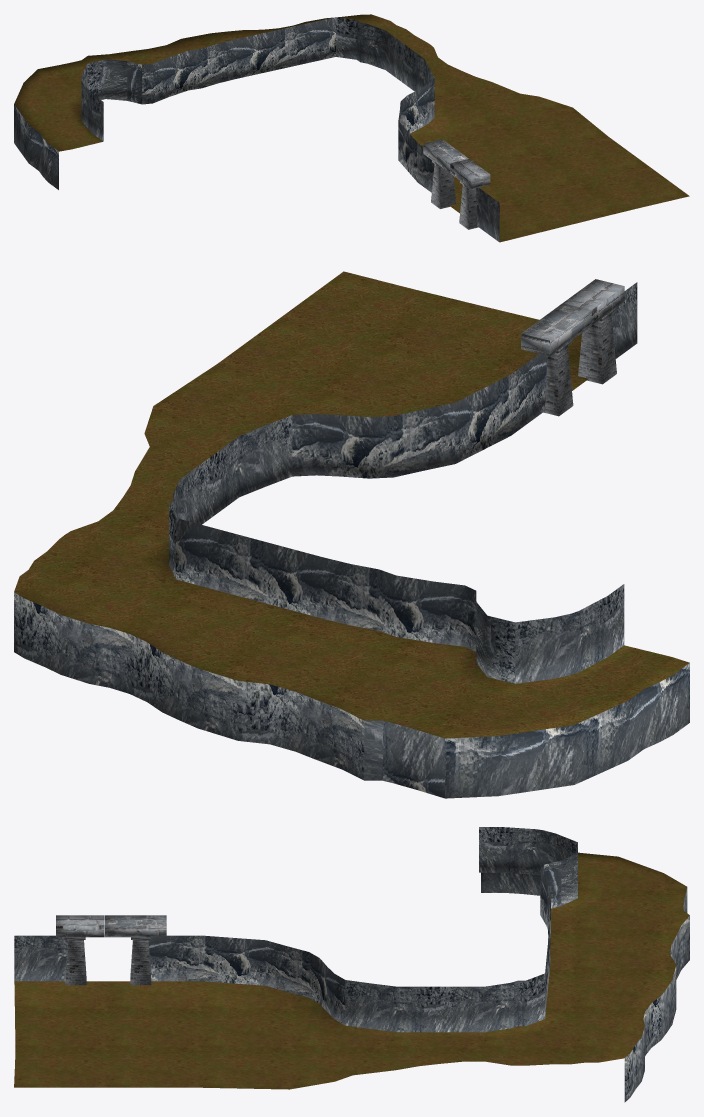
File: arch_ruins.glb
3 views of the same model, one above another, from view 1: azimuth 30°, elevation 25°; view 2: azimuth 150°, elevation 25°; view 3: azimuth 270°, elevation 25° (orthographic). The views are drawn at different scales.
Visible parts, largest first — view 1: Plane, brick; view 2: Plane, brick; view 3: Plane, brick.
Part boxes in pixels (x1=…): Plane: x1=14, y1=14, x2=689, y2=242; brick: x1=423, y1=139, x2=490, y2=229; Plane: x1=14, y1=271, x2=689, y2=798; brick: x1=521, y1=279, x2=624, y2=416; Plane: x1=14, y1=827, x2=689, y2=1102; brick: x1=56, y1=915, x2=166, y2=985.
Bounding box in the file's own units: 75.08 × 15.25 × 88.94.
Materials: 3 (3 with a texture image).
